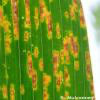Corn Gray leaf spot: (0, 0, 96, 100)
